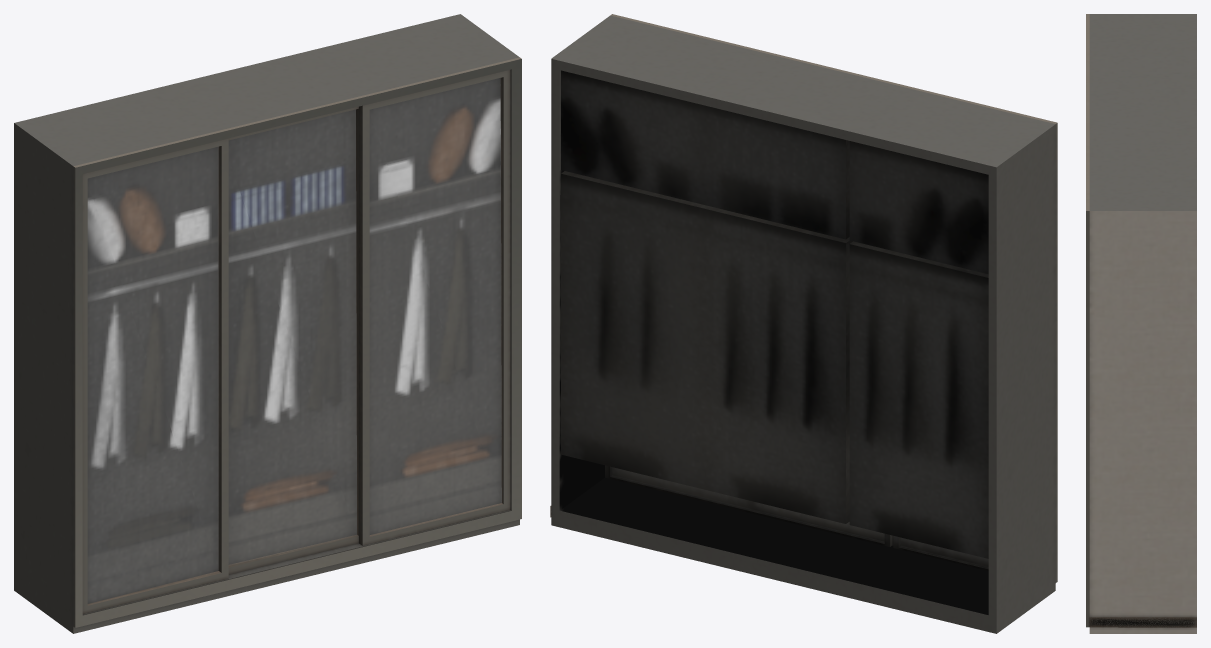
The model's file is raw_model.obj.
3 views of the same model, side by side, from view 1: azimuth 30°, elevation 25°; view 2: azimuth 150°, elevation 25°; view 3: azimuth 270°, elevation 25° (orthographic). The views are drawn at different scales.
Parts seen in each view (by area): view 1: glass_001, solid_014, solid_015; view 2: solid_014, solid_015; view 3: solid_016, solid_014, solid_015.
Boxes of the visible parts, x1,y1,x2,y2 form: glass_001: (87,78,501,603); solid_014: (14,14,519,633); solid_015: (73,57,521,627); solid_014: (551,15,1055,633); solid_015: (550,14,1057,582); solid_016: (1089,211,1196,633); solid_014: (1089,14,1196,210); solid_015: (1086,14,1196,627).
Size of the model in its own units: 2.54 by 2.54 by 0.6033.
1 material, 1 textured.
